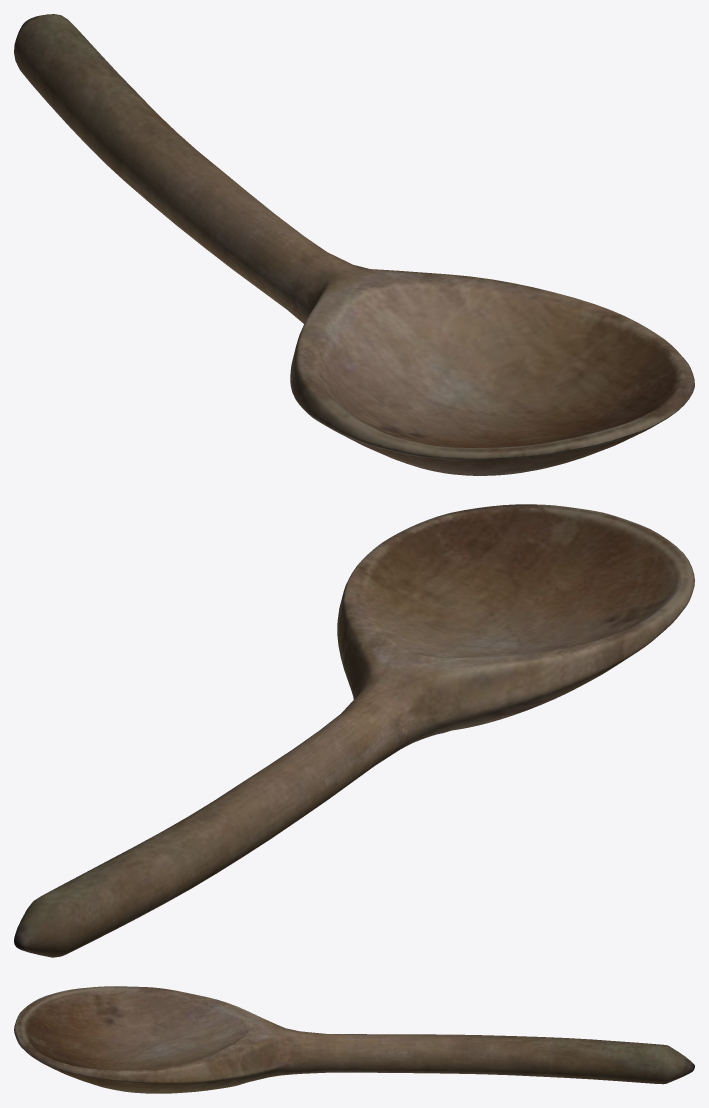
The model's file is wooden_spoon.glb.
3 renders of one model, top to bottom at view 1: azimuth 30°, elevation 25°; view 2: azimuth 150°, elevation 25°; view 3: azimuth 270°, elevation 25°, orthographic. The views are drawn at different scales.
Parts seen in each view (by area): view 1: wooden_spoon; view 2: wooden_spoon; view 3: wooden_spoon.
Boxes of the visible parts, <box> form: wooden_spoon: <box>14,14,694,475</box>; wooden_spoon: <box>14,504,694,957</box>; wooden_spoon: <box>14,986,694,1093</box>.
Bounding box in the file's own units: 0.0866 × 0.0251 × 0.2776.
1 material, 1 textured.
